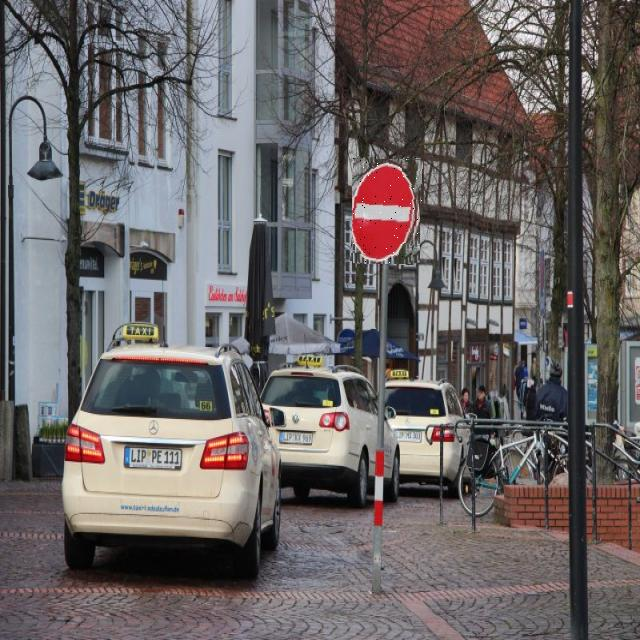no entry: (352, 157, 422, 264)
